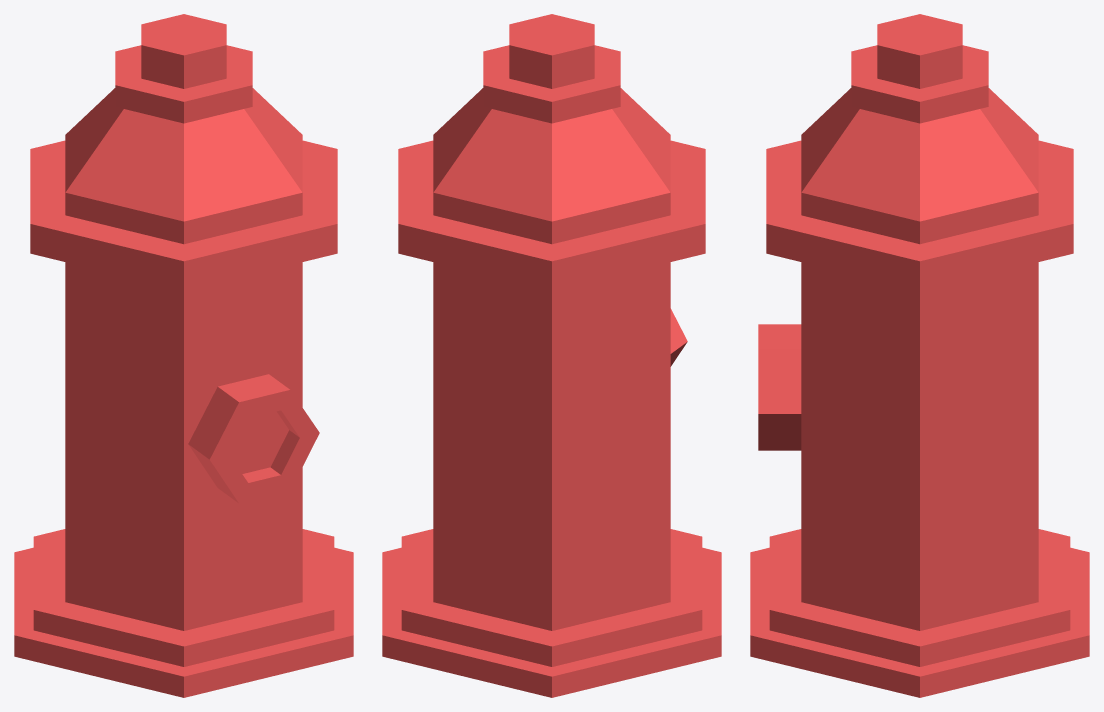
The model's file is fireHydrant.fbx.
3 renders of one model, left to right at view 1: azimuth 30°, elevation 25°; view 2: azimuth 150°, elevation 25°; view 3: azimuth 270°, elevation 25°, orthographic.
Visible parts, largest first — view 1: fireHydrant1; view 2: fireHydrant1; view 3: fireHydrant1.
Part boxes in pixels (x1,y1,x2,y2): fireHydrant1: [14, 14, 353, 697]; fireHydrant1: [382, 14, 721, 697]; fireHydrant1: [750, 14, 1089, 697].
Size of the model in its own units: 2.01 by 3.28 by 1.74.
